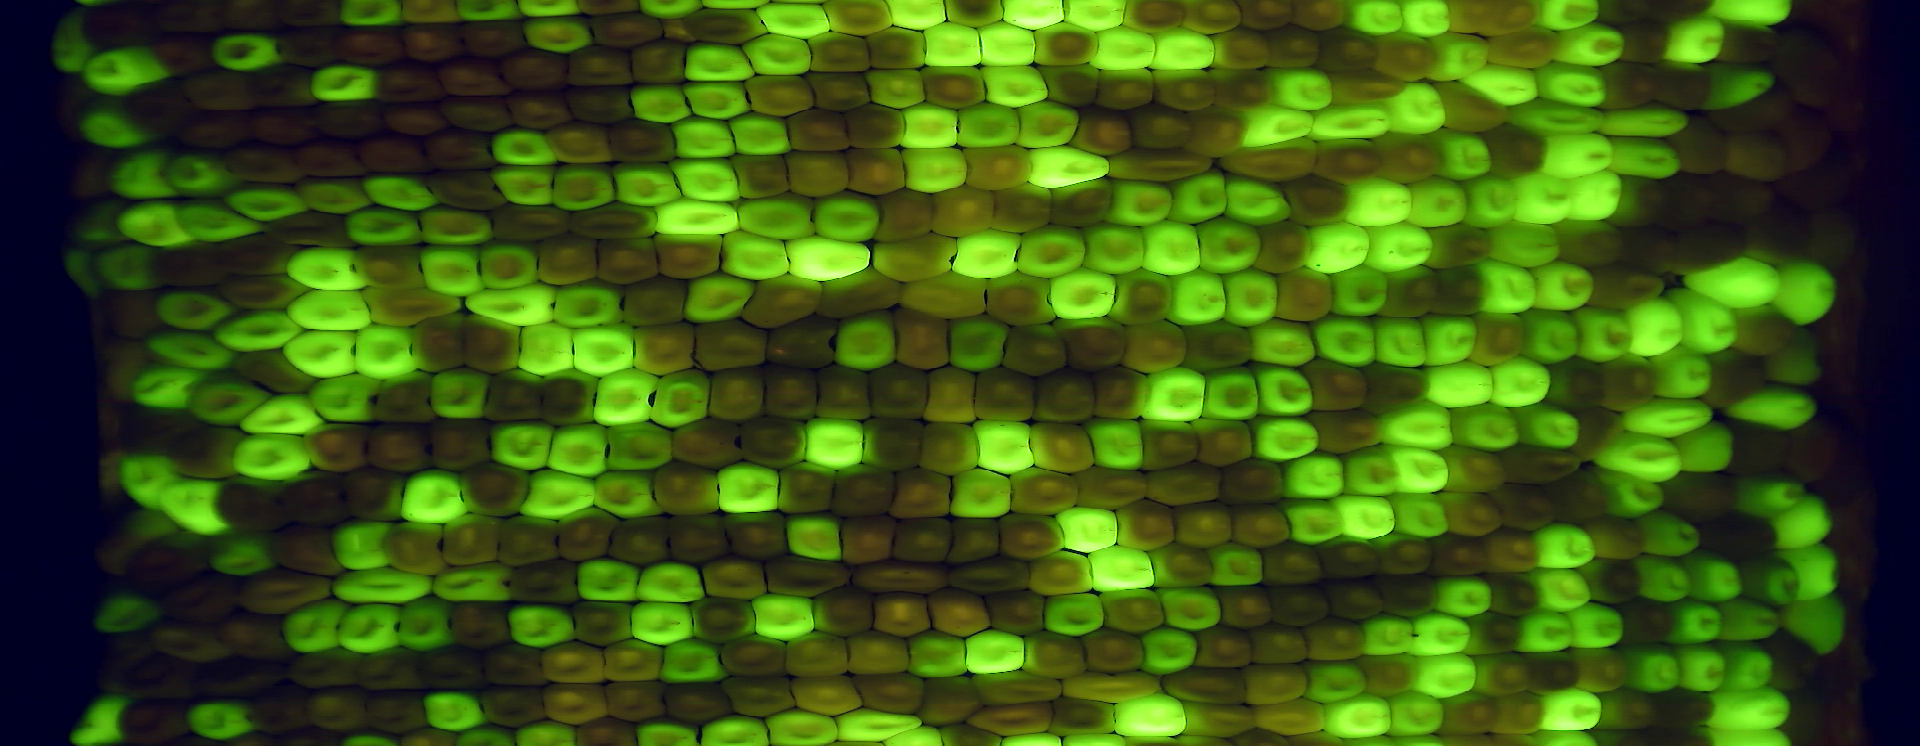fluorescent: (1680, 254, 1784, 307), (73, 43, 175, 92), (463, 281, 562, 328), (118, 198, 202, 254), (282, 327, 369, 379), (418, 243, 493, 301), (1667, 288, 1738, 350), (782, 232, 871, 281), (1727, 386, 1821, 431), (719, 229, 800, 282), (1308, 314, 1380, 372), (174, 195, 264, 241), (1782, 592, 1848, 654), (400, 469, 473, 526), (520, 465, 598, 518), (216, 310, 307, 354), (77, 102, 162, 149), (238, 430, 316, 481), (1777, 258, 1836, 327), (327, 566, 436, 603), (160, 480, 231, 537), (1442, 402, 1522, 452), (812, 190, 884, 245), (1597, 435, 1680, 483), (610, 158, 687, 209), (192, 374, 266, 428), (1569, 304, 1637, 361), (1026, 143, 1113, 189), (288, 285, 375, 331), (969, 419, 1038, 475), (569, 323, 643, 376), (1593, 465, 1668, 517), (1704, 688, 1794, 731), (91, 239, 162, 293), (1510, 396, 1582, 448), (1341, 176, 1413, 229), (1223, 173, 1296, 225), (1194, 218, 1261, 274), (164, 151, 241, 200), (225, 178, 312, 220), (1142, 366, 1209, 423), (1022, 225, 1089, 282), (1304, 218, 1370, 274), (1374, 403, 1453, 450), (1534, 60, 1608, 110), (1625, 296, 1686, 356), (838, 311, 900, 370), (1779, 539, 1843, 597), (1311, 97, 1392, 142), (670, 154, 744, 203), (550, 160, 621, 212), (144, 333, 238, 372), (337, 601, 403, 657), (650, 197, 740, 238), (1107, 691, 1187, 736), (289, 249, 369, 294), (1169, 269, 1229, 330), (1703, 62, 1777, 111), (1365, 223, 1436, 273), (735, 195, 816, 239), (354, 323, 420, 377), (156, 287, 236, 331), (1512, 100, 1609, 137), (1648, 349, 1716, 402), (1467, 60, 1539, 109), (951, 232, 1024, 281), (898, 145, 970, 194), (802, 416, 866, 472), (1477, 258, 1540, 314), (980, 62, 1053, 110), (1082, 223, 1149, 276), (312, 374, 383, 423), (1607, 136, 1681, 183), (1049, 271, 1117, 322), (1200, 365, 1260, 423), (1247, 322, 1319, 370), (489, 160, 561, 208), (489, 421, 557, 472), (714, 463, 782, 513), (595, 370, 658, 425), (1387, 488, 1450, 543), (830, 706, 921, 744), (1616, 397, 1713, 432), (282, 597, 345, 650), (1139, 223, 1202, 277), (593, 470, 666, 517), (605, 421, 675, 470), (1107, 176, 1177, 225), (1682, 552, 1747, 605), (1427, 33, 1491, 86), (362, 169, 444, 211), (1082, 416, 1149, 468), (1632, 510, 1703, 557), (1436, 127, 1495, 185), (329, 519, 397, 570), (513, 323, 580, 374), (1220, 269, 1280, 326), (1771, 494, 1833, 548), (757, 707, 842, 746), (118, 453, 181, 506), (1600, 105, 1689, 143), (1332, 492, 1397, 544), (1738, 559, 1802, 610), (1406, 178, 1471, 229), (1490, 220, 1560, 268), (1248, 416, 1321, 462), (1670, 421, 1736, 472), (344, 205, 429, 244), (208, 530, 279, 577), (553, 282, 624, 328), (1511, 171, 1572, 225), (1558, 20, 1625, 69), (1086, 548, 1161, 592), (1239, 100, 1314, 145), (1389, 442, 1451, 495), (947, 316, 1009, 369), (1302, 659, 1370, 707), (898, 100, 961, 152), (246, 398, 327, 439), (1487, 356, 1551, 407), (180, 698, 256, 741), (1262, 66, 1338, 109), (1425, 360, 1495, 407), (684, 274, 754, 321), (490, 125, 560, 171), (430, 367, 489, 423), (507, 603, 580, 647), (1371, 315, 1430, 370), (1527, 261, 1593, 310), (628, 598, 696, 646), (1015, 102, 1082, 149), (419, 206, 498, 246), (659, 639, 733, 682), (664, 116, 738, 159), (1533, 568, 1597, 619), (516, 20, 602, 56), (1153, 586, 1226, 630), (958, 100, 1022, 149), (478, 243, 542, 292), (730, 110, 795, 159), (654, 372, 711, 428), (1464, 174, 1522, 229), (1253, 364, 1313, 416), (1521, 310, 1581, 363), (1389, 83, 1449, 136), (113, 149, 173, 202), (1284, 495, 1346, 546), (961, 628, 1029, 675), (749, 595, 820, 639), (1543, 134, 1615, 176), (681, 40, 753, 83), (42, 15, 94, 73), (637, 560, 707, 604), (396, 600, 457, 650), (309, 62, 384, 103), (133, 367, 204, 410), (1532, 522, 1596, 570), (574, 560, 643, 604), (1319, 698, 1396, 737), (1416, 650, 1480, 697), (1536, 690, 1608, 731), (680, 77, 752, 119), (209, 31, 282, 72), (743, 34, 813, 77), (1167, 175, 1229, 223), (1152, 26, 1220, 70), (784, 513, 847, 560), (551, 425, 609, 477), (1767, 338, 1824, 390), (1567, 171, 1625, 223), (1422, 314, 1480, 364), (1095, 26, 1160, 71), (1040, 593, 1108, 636), (300, 174, 375, 213), (909, 630, 970, 677), (1341, 450, 1402, 497), (948, 469, 1010, 516), (1057, 507, 1120, 552), (1717, 597, 1782, 641), (1722, 642, 1777, 693), (628, 82, 694, 125), (1734, 475, 1804, 516), (1571, 603, 1629, 652), (1136, 626, 1196, 673), (1283, 452, 1343, 499), (1627, 648, 1687, 695), (756, 2, 834, 38), (1382, 692, 1447, 735), (1636, 555, 1693, 603), (922, 24, 982, 70), (973, 21, 1038, 62), (438, 565, 512, 601), (73, 698, 130, 746), (420, 692, 489, 731), (1209, 543, 1266, 589), (1668, 600, 1725, 647), (1331, 269, 1389, 316), (1706, 1, 1795, 31), (1667, 18, 1725, 62), (1356, 614, 1416, 657), (1431, 579, 1496, 619), (64, 246, 108, 303), (1411, 619, 1476, 657), (1678, 643, 1727, 693), (78, 200, 131, 246), (697, 713, 769, 746), (96, 594, 162, 630), (1513, 612, 1575, 650), (1060, 1, 1127, 34), (1396, 1, 1453, 38), (631, 717, 702, 746), (338, 1, 411, 29), (1704, 725, 1802, 746), (998, 1, 1069, 29), (1344, 1, 1401, 36), (888, 1, 945, 31), (1537, 1, 1602, 27), (516, 722, 572, 746), (878, 726, 948, 746), (509, 1, 585, 18), (456, 1, 522, 21), (638, 1, 704, 20), (1532, 729, 1602, 746), (457, 728, 516, 746), (1060, 733, 1123, 746), (827, 734, 887, 746), (339, 733, 392, 746), (1002, 734, 1059, 746), (1344, 734, 1397, 746), (1398, 733, 1442, 746), (700, 1, 771, 9), (69, 1, 119, 10)
nonfluorescent: (1774, 24, 1840, 105), (740, 274, 829, 333), (104, 506, 178, 577), (359, 284, 463, 328), (1725, 418, 1799, 480), (900, 267, 989, 317), (984, 271, 1062, 328), (234, 571, 337, 612), (1697, 508, 1774, 563), (189, 657, 288, 699), (126, 537, 211, 587), (691, 318, 773, 370), (816, 273, 909, 318), (1663, 470, 1738, 527), (767, 316, 842, 371), (167, 426, 250, 477), (274, 522, 347, 579), (362, 419, 440, 473), (212, 479, 289, 533), (891, 305, 956, 369), (1436, 80, 1509, 136), (351, 243, 433, 292), (722, 510, 798, 562), (872, 234, 960, 279), (234, 350, 317, 398), (1307, 405, 1390, 453), (1107, 146, 1215, 183), (1744, 198, 1807, 260), (1005, 320, 1073, 377), (631, 323, 700, 379), (618, 277, 693, 328), (462, 311, 523, 374), (917, 418, 980, 479), (538, 366, 600, 428), (1180, 318, 1256, 369), (1790, 421, 1847, 489), (557, 507, 624, 563), (1058, 318, 1131, 370), (742, 416, 813, 469), (1138, 418, 1202, 475), (218, 612, 294, 661), (157, 577, 239, 622), (458, 465, 531, 516), (154, 244, 231, 292), (1704, 350, 1764, 412), (759, 364, 820, 424), (1281, 176, 1356, 225), (923, 363, 980, 428), (496, 511, 561, 567), (1482, 122, 1548, 178), (1371, 29, 1438, 85), (1788, 154, 1854, 209), (972, 367, 1038, 423), (484, 367, 550, 423), (381, 522, 449, 575), (1360, 361, 1434, 410), (672, 416, 746, 465), (812, 365, 876, 421), (844, 145, 910, 198), (1031, 370, 1097, 424), (1029, 421, 1095, 475), (1493, 442, 1583, 481), (591, 236, 664, 285), (1007, 468, 1079, 517), (922, 589, 994, 638), (410, 315, 471, 372), (78, 6, 165, 47), (534, 232, 598, 287), (866, 363, 929, 418), (680, 9, 771, 47), (931, 186, 997, 239), (1376, 131, 1442, 184), (1439, 491, 1510, 540), (1124, 321, 1191, 372), (1384, 265, 1442, 323), (765, 559, 853, 598), (1762, 628, 1820, 688), (862, 415, 922, 473), (688, 597, 760, 644), (1727, 127, 1788, 184), (853, 560, 954, 594), (653, 232, 726, 278), (1425, 223, 1495, 272), (1804, 209, 1856, 274), (441, 514, 506, 567), (1140, 465, 1222, 507), (223, 236, 300, 281), (959, 145, 1036, 189), (1304, 360, 1370, 412), (1222, 147, 1318, 183), (605, 118, 680, 163), (1112, 502, 1179, 552), (1471, 312, 1527, 372), (1813, 448, 1870, 508), (1070, 105, 1134, 158), (1669, 225, 1745, 269), (127, 83, 192, 135), (666, 512, 731, 563), (888, 514, 958, 562), (969, 670, 1065, 704), (1116, 268, 1176, 323), (129, 653, 200, 699), (1583, 516, 1651, 565), (304, 423, 371, 472), (1020, 631, 1089, 679), (1062, 673, 1164, 704), (789, 148, 853, 198), (917, 677, 982, 728), (449, 599, 514, 649), (1073, 467, 1149, 510), (375, 60, 444, 107), (261, 212, 349, 249), (1127, 104, 1193, 153), (1439, 443, 1505, 492), (656, 465, 722, 514), (607, 516, 673, 565), (704, 370, 765, 423), (432, 419, 493, 472), (999, 511, 1067, 559), (1652, 60, 1714, 111), (852, 674, 927, 717), (507, 563, 582, 606), (785, 632, 853, 679), (725, 670, 793, 717), (831, 465, 896, 514), (920, 65, 989, 110), (1554, 219, 1624, 265), (789, 673, 864, 714), (1275, 267, 1335, 320), (100, 289, 167, 337), (1731, 307, 1798, 355), (127, 407, 193, 454), (742, 73, 816, 116), (1262, 584, 1336, 627), (1490, 484, 1558, 530), (336, 23, 407, 67), (1097, 590, 1168, 635), (1240, 661, 1311, 706), (1251, 224, 1315, 273), (1187, 107, 1250, 156), (1160, 671, 1250, 706), (1433, 265, 1490, 318), (1602, 359, 1660, 412), (876, 189, 936, 240), (1547, 358, 1607, 409), (564, 205, 661, 236), (216, 276, 309, 309), (1576, 560, 1646, 604), (418, 648, 487, 692), (1191, 416, 1253, 467), (344, 472, 405, 522), (546, 118, 615, 162), (1548, 472, 1607, 523), (301, 688, 370, 733), (153, 622, 230, 661), (571, 599, 636, 646), (776, 463, 838, 512), (893, 469, 955, 517), (225, 146, 306, 183), (1093, 366, 1149, 420), (868, 592, 936, 636), (1615, 175, 1671, 228), (846, 103, 910, 149), (836, 514, 895, 565), (1229, 502, 1294, 548), (126, 699, 191, 745), (567, 45, 636, 88), (807, 69, 876, 111), (1149, 69, 1217, 111), (1032, 24, 1101, 67), (354, 647, 422, 690), (722, 632, 791, 675), (276, 479, 350, 518), (846, 632, 912, 676), (1493, 27, 1562, 69), (1051, 695, 1120, 736), (1571, 643, 1629, 693), (399, 20, 467, 62), (811, 593, 878, 636), (482, 684, 550, 726), (1428, 534, 1491, 579), (1082, 628, 1146, 674), (429, 171, 504, 209), (1596, 267, 1667, 307), (972, 699, 1053, 735), (1316, 138, 1381, 183), (1374, 575, 1439, 619), (1220, 461, 1284, 505), (1171, 501, 1236, 545), (1191, 627, 1256, 671), (1316, 27, 1378, 73), (376, 376, 437, 423), (1671, 120, 1727, 171), (1303, 620, 1369, 663), (181, 70, 253, 109), (100, 339, 146, 402), (951, 560, 1033, 594), (730, 153, 793, 197), (605, 682, 669, 726), (1327, 66, 1406, 102), (1569, 408, 1620, 462), (1318, 539, 1386, 579), (1779, 110, 1829, 165), (1051, 183, 1113, 227), (1594, 688, 1657, 733), (666, 680, 732, 722), (359, 136, 436, 171), (1250, 698, 1327, 734), (786, 111, 851, 153), (864, 27, 929, 69), (1356, 653, 1420, 695), (1213, 587, 1278, 628), (366, 690, 431, 731), (993, 187, 1054, 232), (1210, 27, 1271, 71), (1613, 601, 1674, 646), (949, 516, 1004, 565), (1717, 91, 1793, 126), (58, 73, 97, 142), (435, 62, 513, 97), (1207, 67, 1270, 110), (1249, 624, 1311, 666), (482, 644, 549, 685), (1041, 62, 1100, 108), (247, 107, 320, 143), (311, 97, 383, 134), (1652, 687, 1716, 729), (540, 684, 610, 722), (987, 590, 1047, 635), (1622, 223, 1675, 273), (806, 34, 873, 73), (1723, 20, 1779, 66), (1265, 24, 1322, 70), (1718, 175, 1776, 220), (1482, 532, 1539, 577), (493, 205, 569, 239), (705, 560, 768, 601), (152, 33, 218, 72), (1473, 654, 1537, 695), (1095, 67, 1155, 110), (1375, 534, 1435, 577), (1152, 546, 1212, 589), (440, 96, 512, 131), (296, 141, 366, 178), (1600, 62, 1656, 109), (1667, 180, 1722, 227), (538, 646, 607, 682), (273, 26, 340, 64), (462, 20, 529, 58), (1322, 579, 1385, 620), (502, 51, 571, 88), (629, 40, 688, 83), (1463, 612, 1522, 655), (1493, 695, 1551, 737), (1033, 555, 1093, 597), (1439, 695, 1502, 734), (825, 1, 893, 38), (1182, 702, 1256, 735), (66, 149, 116, 198), (380, 98, 448, 134), (605, 642, 665, 682), (1785, 690, 1828, 746), (253, 66, 315, 105), (290, 653, 362, 686), (1261, 544, 1320, 584), (249, 692, 302, 736), (429, 134, 495, 169), (1484, 575, 1540, 616), (1178, 1, 1245, 36), (1120, 1, 1187, 36), (508, 93, 573, 127), (156, 1, 228, 32), (182, 113, 251, 145), (567, 87, 636, 119), (1529, 650, 1580, 693), (590, 16, 665, 44), (1292, 1, 1353, 36), (219, 1, 290, 31), (578, 717, 647, 746), (1620, 20, 1667, 62), (276, 1, 345, 28), (1488, 1, 1536, 40), (1829, 80, 1864, 134), (944, 1, 1007, 29), (100, 632, 156, 664), (1450, 1, 1496, 37), (1237, 1, 1291, 32), (399, 1, 462, 24), (1651, 1, 1716, 23), (939, 725, 1005, 746), (1594, 1, 1652, 23), (400, 726, 458, 746), (287, 728, 344, 746), (579, 1, 640, 18), (1596, 731, 1667, 746), (1487, 731, 1545, 746), (1234, 733, 1294, 746), (1659, 733, 1717, 746), (1444, 733, 1499, 746), (1291, 731, 1340, 746)
